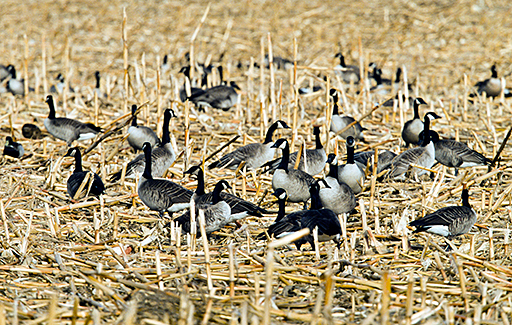goose: (109, 106, 179, 191), (180, 163, 267, 226), (211, 118, 292, 170), (167, 179, 231, 244), (137, 140, 192, 211), (387, 111, 443, 179), (40, 91, 104, 149), (410, 186, 476, 240), (264, 123, 328, 174), (61, 144, 108, 208), (264, 186, 312, 242), (268, 137, 310, 200), (315, 151, 354, 214), (432, 130, 493, 170), (308, 173, 343, 239), (323, 85, 363, 137), (121, 102, 160, 155), (185, 78, 244, 108), (336, 135, 364, 188), (400, 95, 429, 142), (475, 62, 508, 96), (352, 150, 399, 173), (327, 50, 359, 82), (2, 60, 28, 99), (369, 67, 398, 98), (177, 63, 193, 94), (88, 68, 104, 95), (50, 71, 71, 91)
